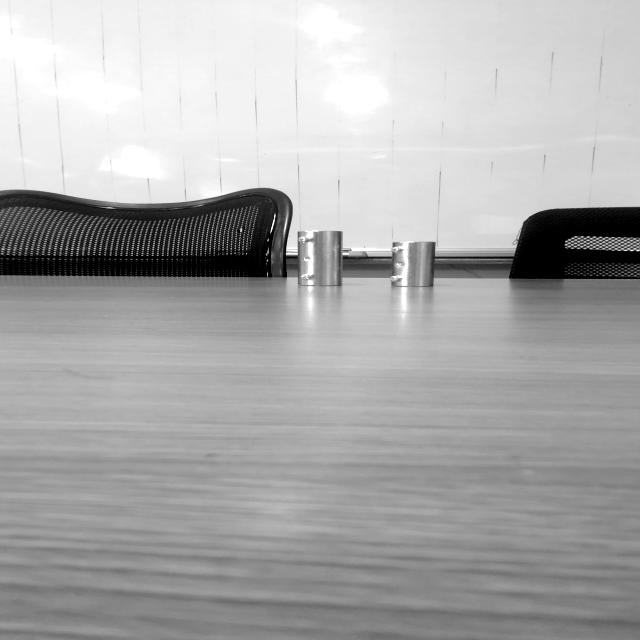Co_Lon: (298, 231, 342, 286)
Co_Nho: (390, 240, 435, 288)
